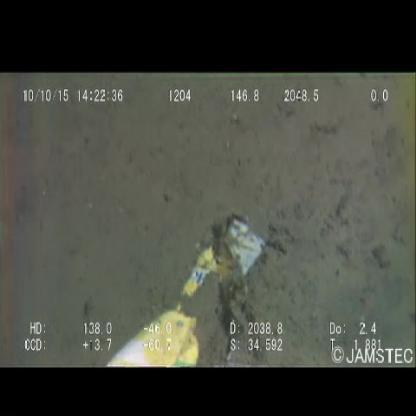Rác: (106, 215, 267, 370)
